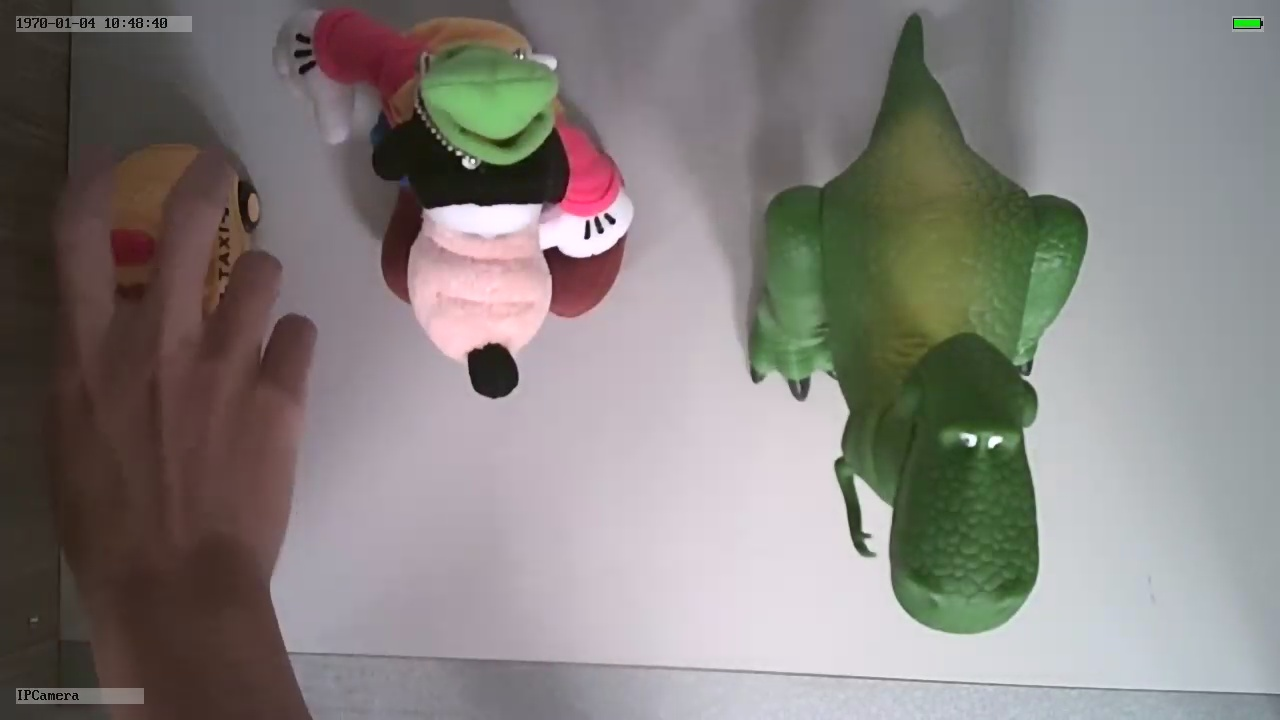goofy: (272, 8, 634, 397)
rex: (748, 108, 1087, 635)
